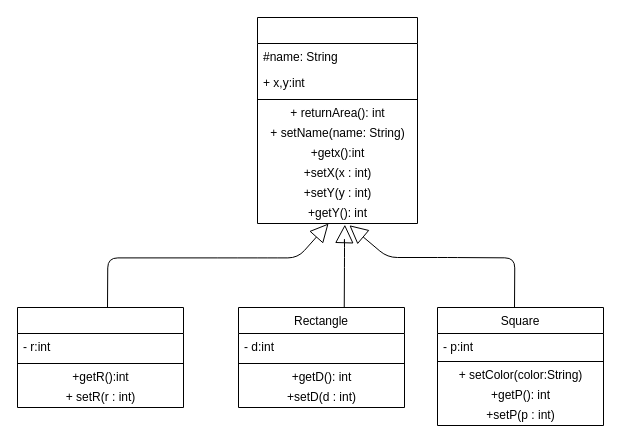
Some shapes in this 621 by 443 pixel diagram are drawn without their labels. The shapes that lost their labels are listed below. From the top down, each one's box as (x1, y1, x2, y2) in pixels, then its label:
(256, 16, 418, 224): Shape
(16, 306, 184, 408): Circle
